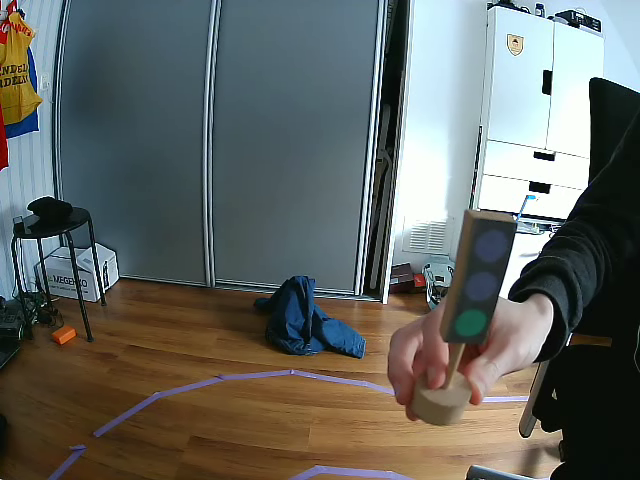groenlicht: (447, 218, 516, 339)
